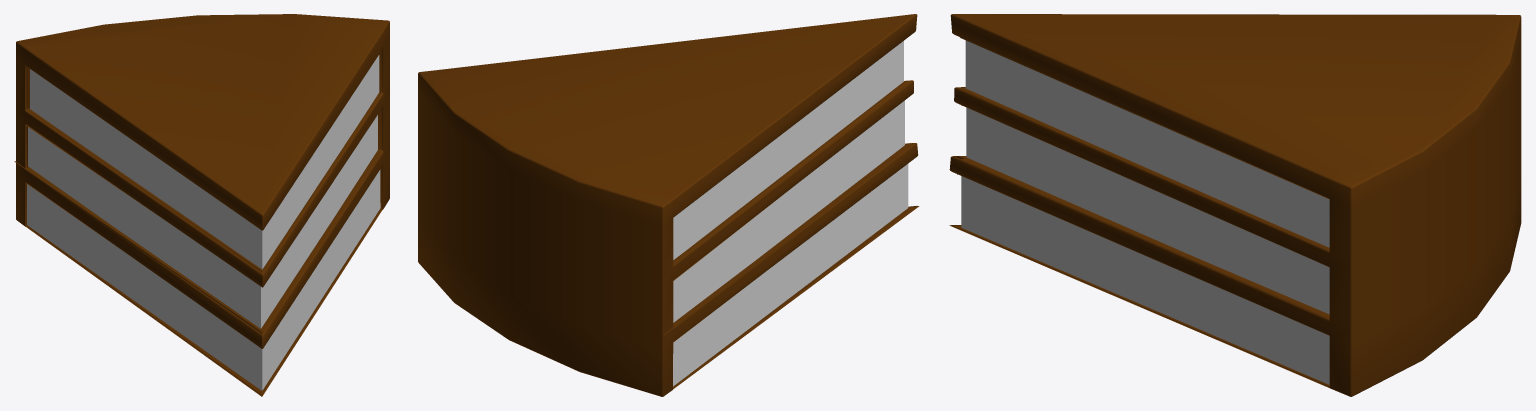
The model's file is торт.fbx.
The picture shows the model from 3 angles, left to right: view 1: azimuth 30°, elevation 25°; view 2: azimuth 150°, elevation 25°; view 3: azimuth 270°, elevation 25°; orthographic projection. The views are drawn at different scales.
Visible parts, largest first — view 1: Circle, Плоскость, Плоскость.001, Плоскость.002; view 2: Circle, Плоскость, Плоскость.001, Плоскость.002; view 3: Circle, Плоскость, Плоскость.001, Плоскость.002.
Part boxes in pixels (x1,y1,x2,y2): Circle: (14, 14, 389, 396); Плоскость: (27, 170, 380, 390); Плоскость.001: (28, 115, 377, 328); Плоскость.002: (30, 55, 379, 269); Circle: (418, 14, 919, 396); Плоскость: (673, 164, 908, 386); Плоскость.001: (673, 100, 904, 322); Плоскость.002: (673, 41, 903, 259); Circle: (949, 14, 1521, 396); Плоскость: (961, 176, 1329, 384); Плоскость.001: (966, 107, 1329, 314); Плоскость.002: (965, 40, 1329, 247).
Size of the model in its own units: 70.82 by 40.61 by 98.71.
